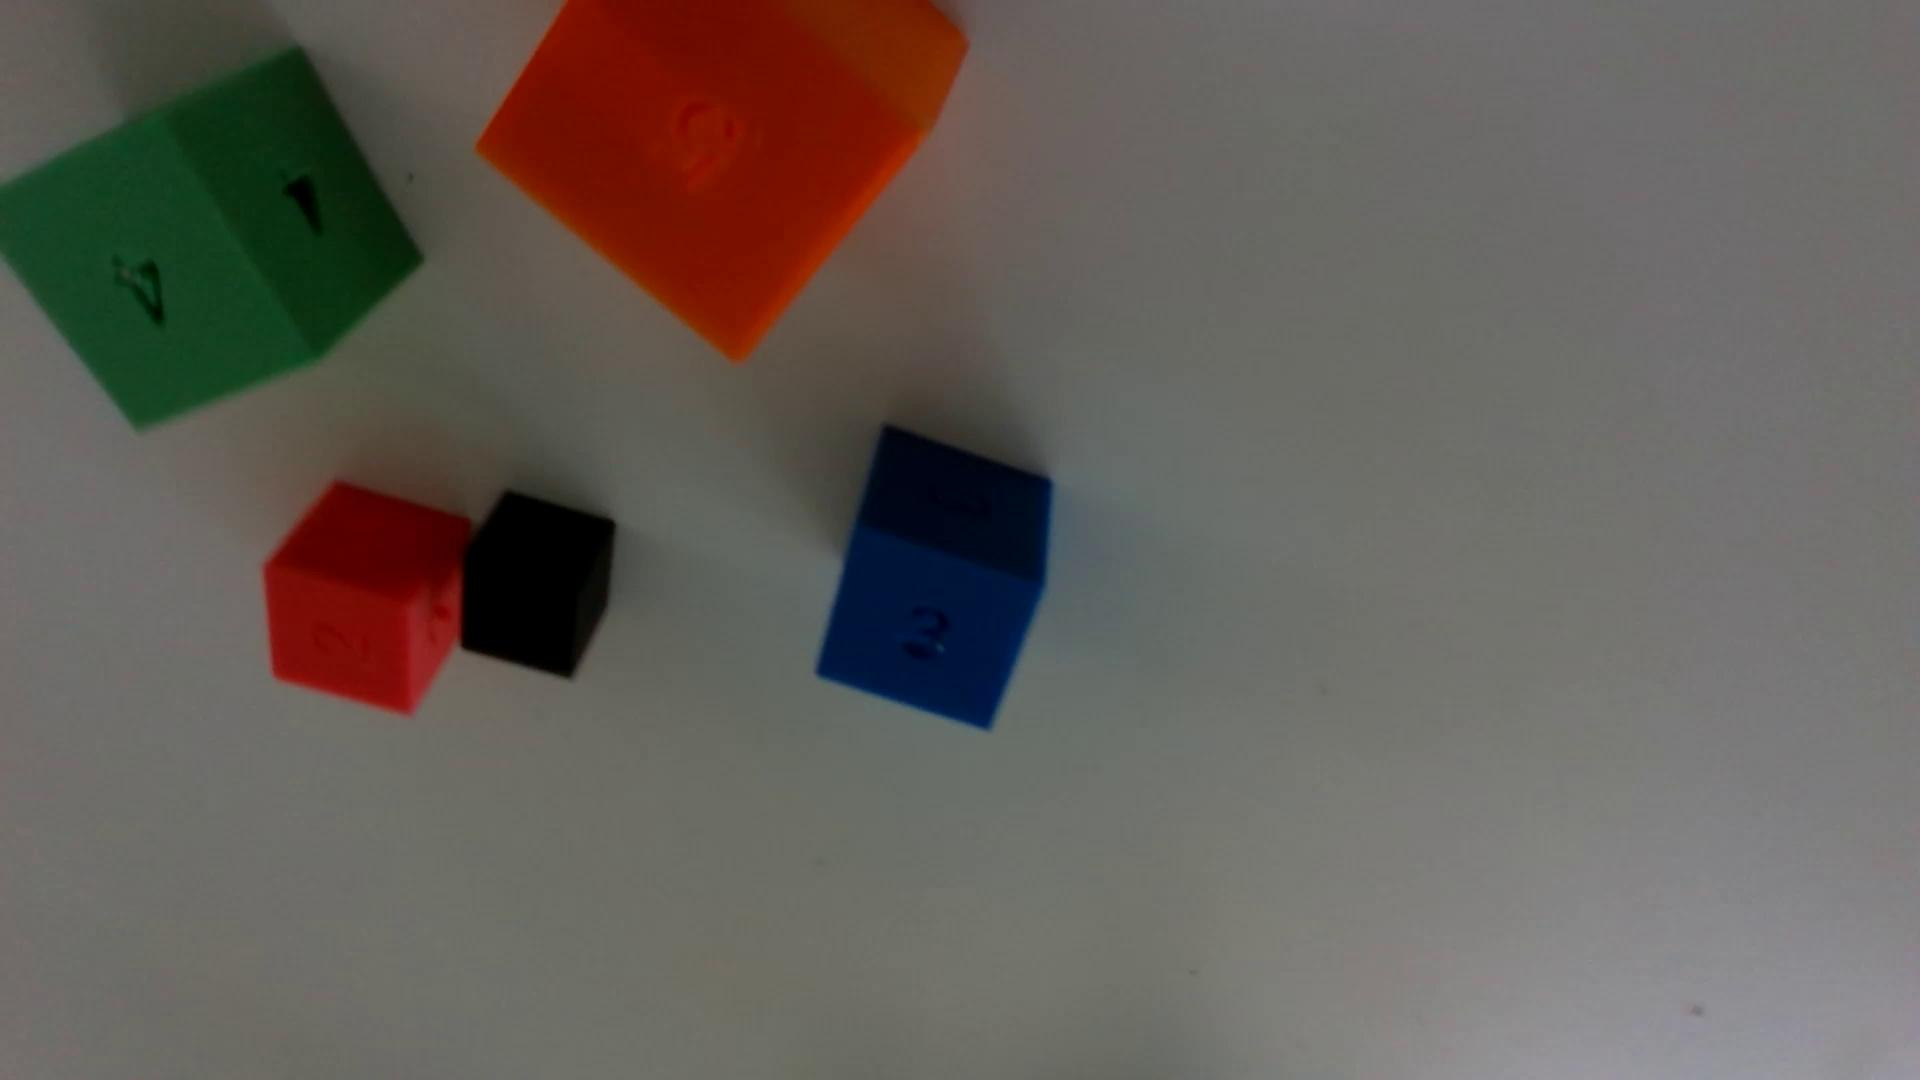black: (462, 491, 617, 678)
blue: (818, 426, 1054, 727)
green: (0, 47, 422, 427)
orange: (477, 0, 967, 360)
red: (264, 483, 471, 713)
